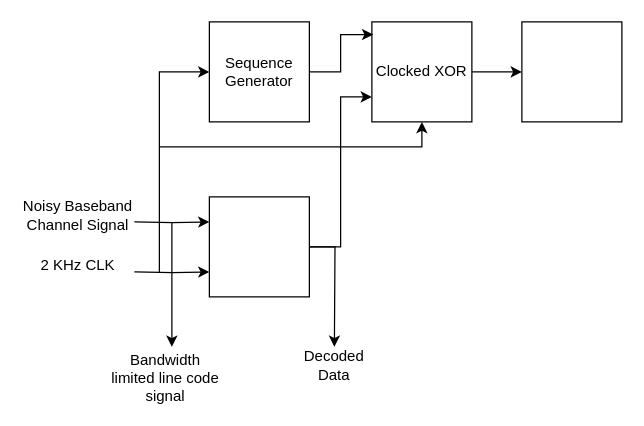
The diagram is 644 pixels wide and 426 high, and some of its shapes have lost their labels. Here are the shapes that lost their labels. From the top down, the centre of each, then its label:
At pixel 571 71: "Error Counter".
At pixel 258 246: "Line Code Decoder".
